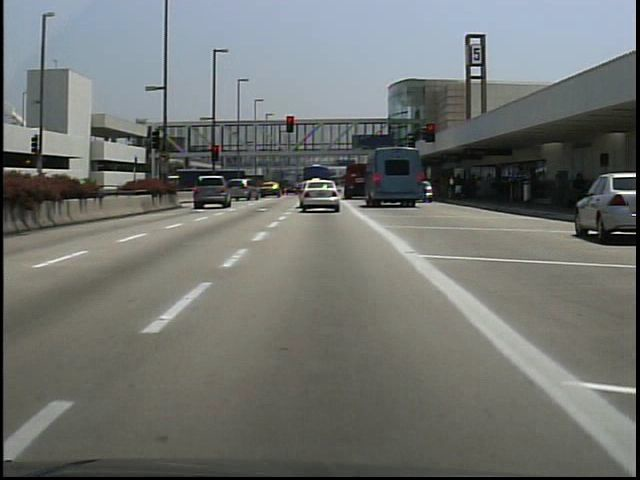person: (570, 169, 589, 223)
